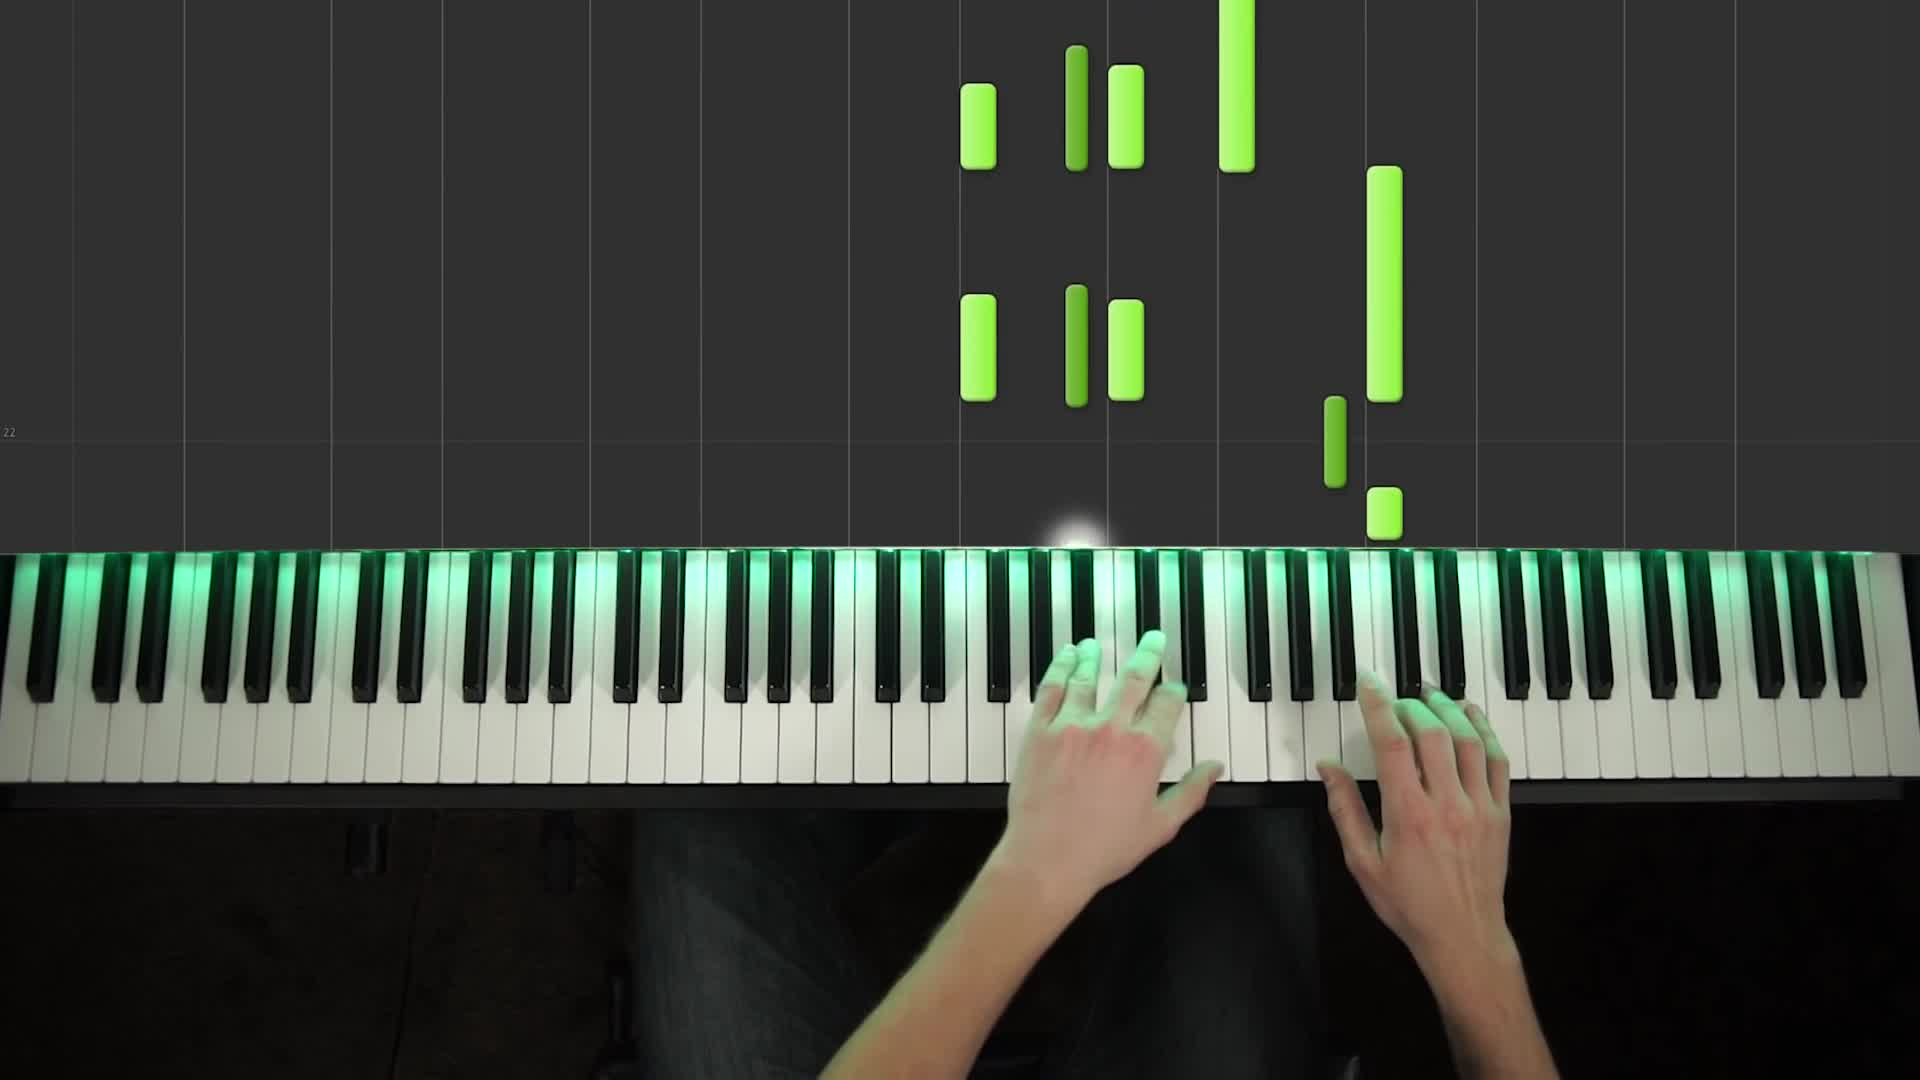left: (1002, 628, 1225, 864)
right: (1317, 669, 1513, 924)
